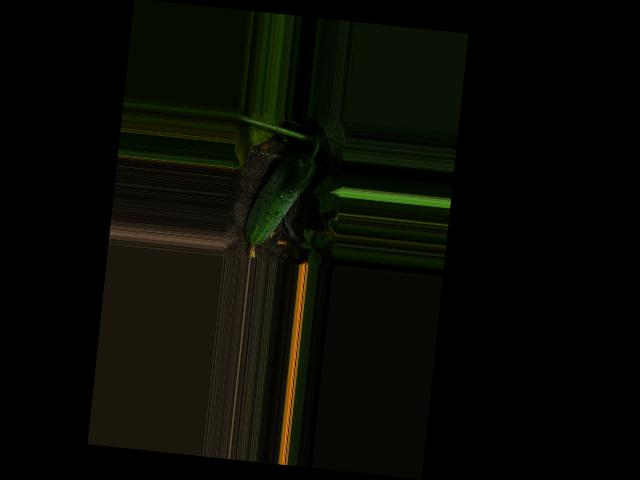cucumber: (241, 148, 316, 264)
